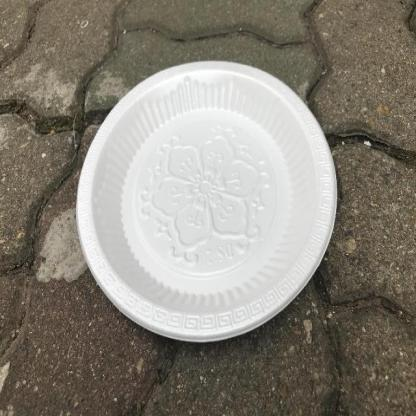Glass Cup: (75, 60, 338, 344), (76, 61, 338, 342)
